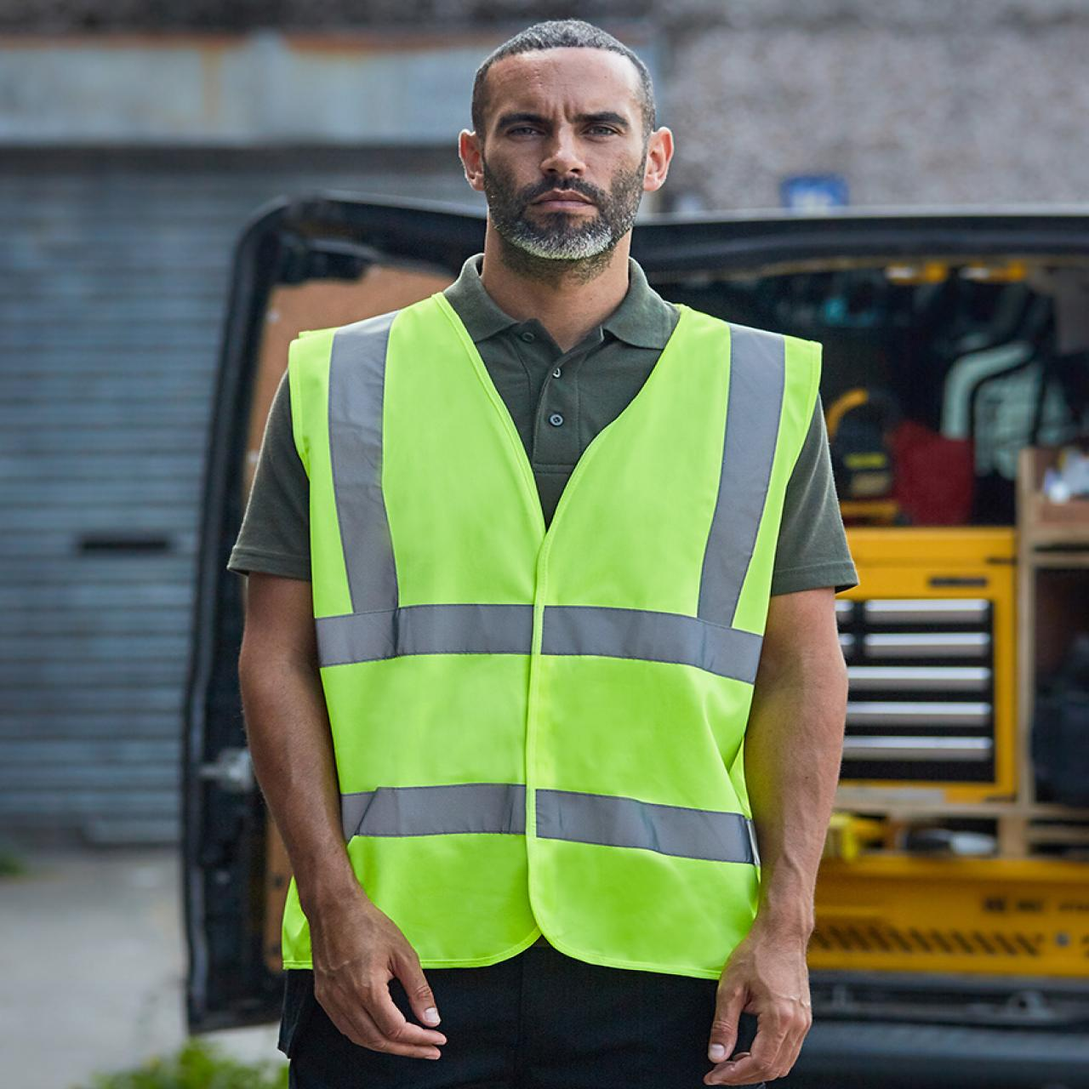Person: (187, 0, 940, 1089)
Safety_Vest: (277, 299, 831, 986)
